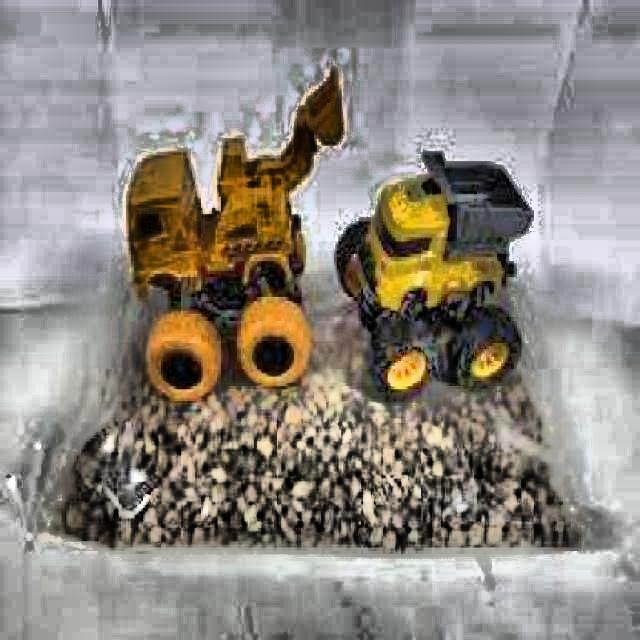dump_truck: (335, 140, 538, 429)
